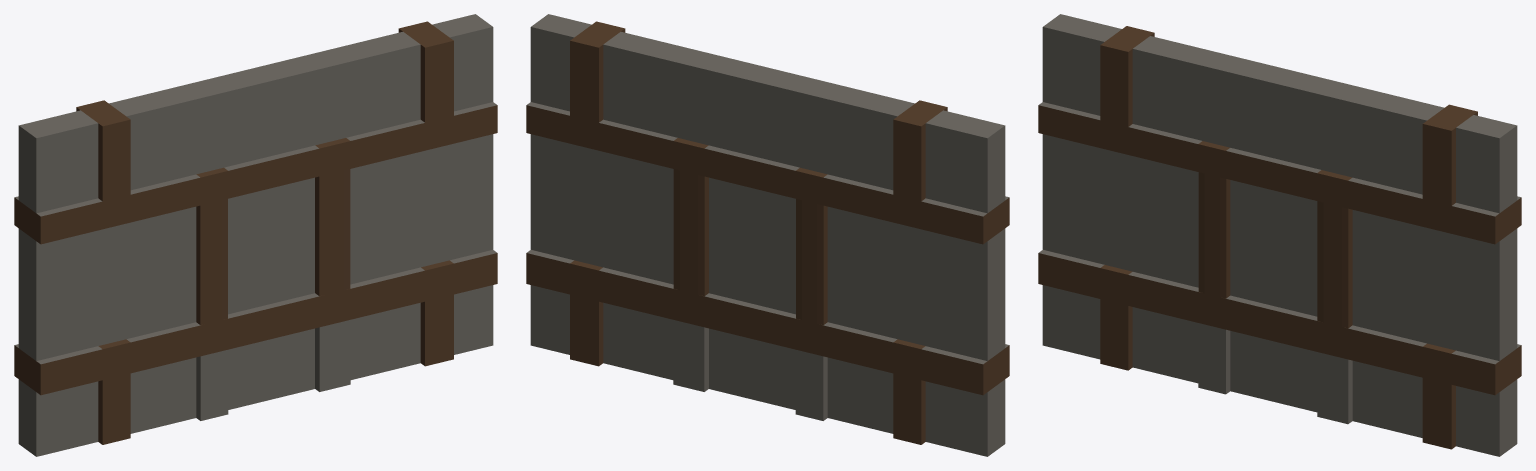
File: Wall.fbx
3 renders of one model, left to right at view 1: azimuth 30°, elevation 25°; view 2: azimuth 150°, elevation 25°; view 3: azimuth 330°, elevation 25°, orthographic.
Parts seen in each view (by area): view 1: Wall; view 2: Wall; view 3: Wall.
Boxes of the visible parts, box(x1,y1,x2,y2) form: Wall: box(14, 14, 497, 456); Wall: box(526, 14, 1009, 456); Wall: box(1038, 14, 1521, 456).
Bounding box in the file's own units: 300 × 200 × 30.
